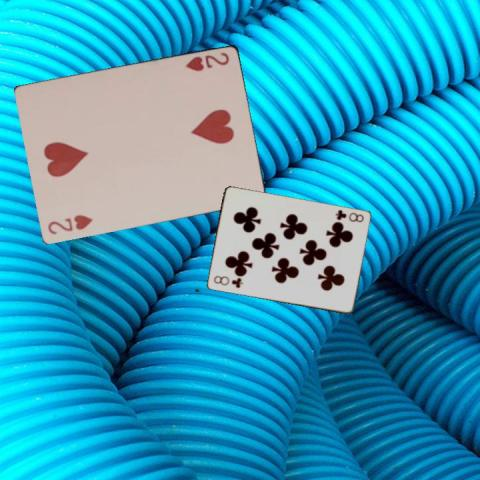2h: (45, 212, 95, 236), (183, 48, 230, 72)
8c: (332, 207, 365, 224), (211, 273, 244, 289)
